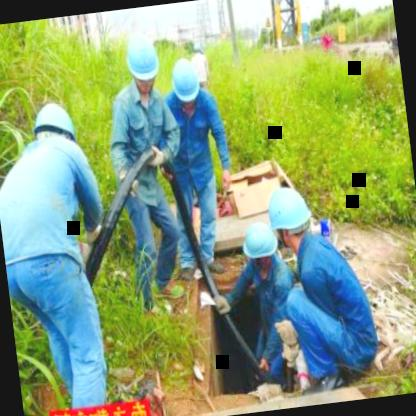helmet: (266, 180, 314, 255), (25, 102, 80, 163), (123, 30, 164, 96), (240, 218, 279, 274), (168, 54, 202, 108)
